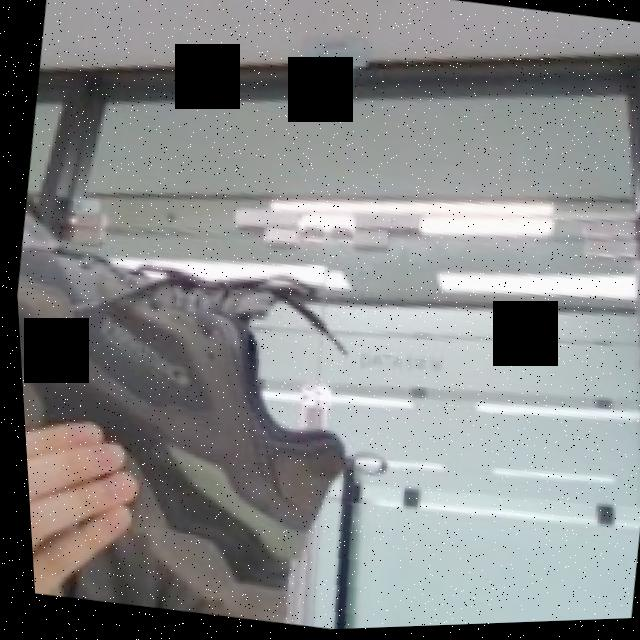shoe: (8, 170, 438, 640)
